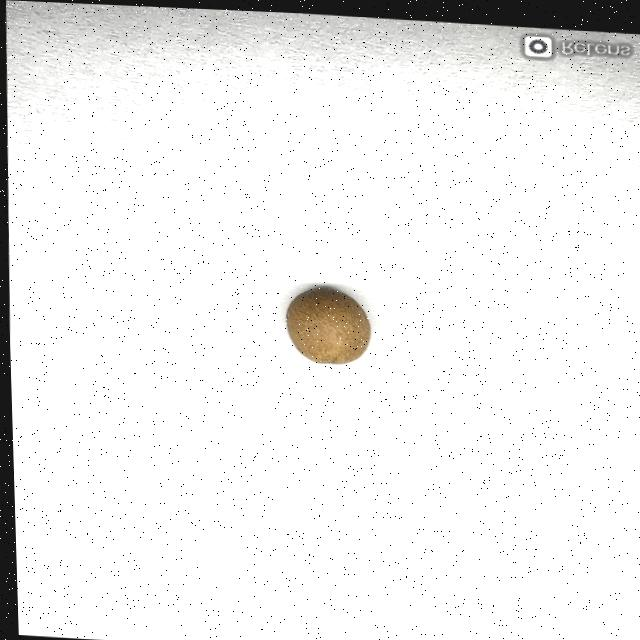Quaker: (282, 282, 369, 364)
